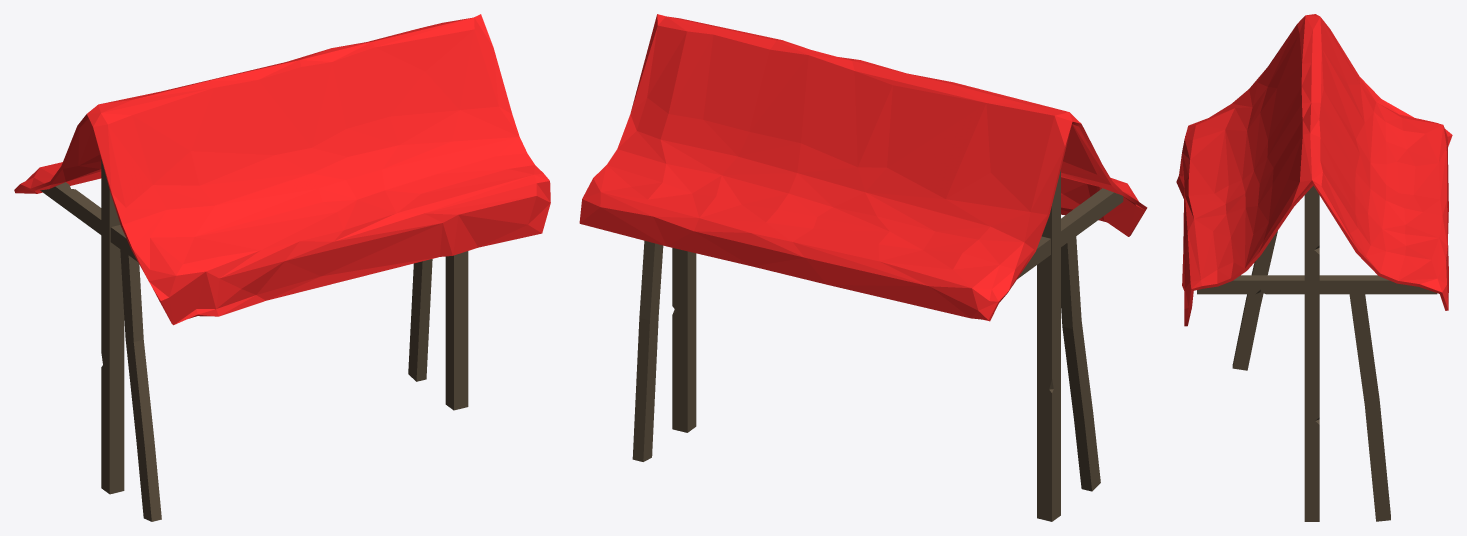
Rendered from stand_b.FBX.
3 renders of one model, left to right at view 1: azimuth 30°, elevation 25°; view 2: azimuth 150°, elevation 25°; view 3: azimuth 270°, elevation 25°, orthographic. The views are drawn at different scales.
Parts seen in each view (by area): view 1: stand_b; view 2: stand_b; view 3: stand_b.
Boxes of the visible parts, x1,y1,x2,y2 form: stand_b: (14,14,550,521); stand_b: (579,14,1147,521); stand_b: (1176,14,1452,521).
Size of the model in its own units: 3.82 by 3.57 by 2.56.
